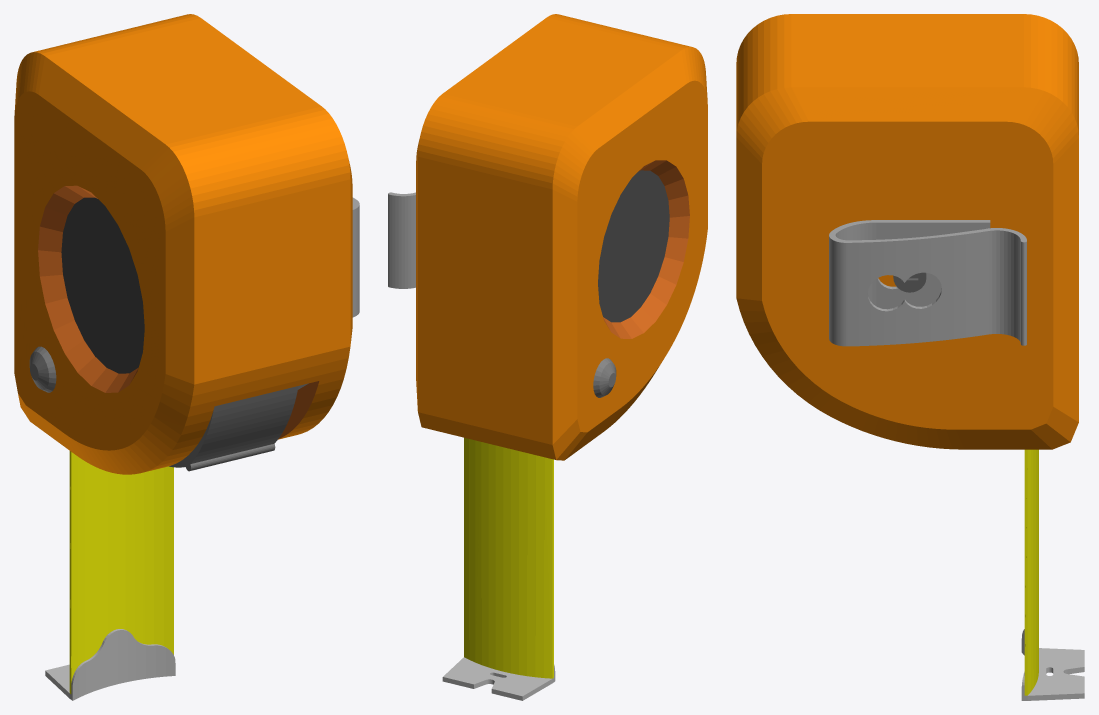
3 renders of one model, left to right at view 1: azimuth 30°, elevation 25°; view 2: azimuth 150°, elevation 25°; view 3: azimuth 270°, elevation 25°, orthographic. The views are drawn at different scales.
Visible parts, largest first — view 1: tape ruler; view 2: tape ruler; view 3: tape ruler.
Boxes of the visible parts, x1,y1,x2,y2 form: tape ruler: (14, 14, 359, 700); tape ruler: (388, 14, 707, 700); tape ruler: (736, 14, 1084, 700).
Bounding box in the file's own units: 1.88 × 4.76 × 2.4.
